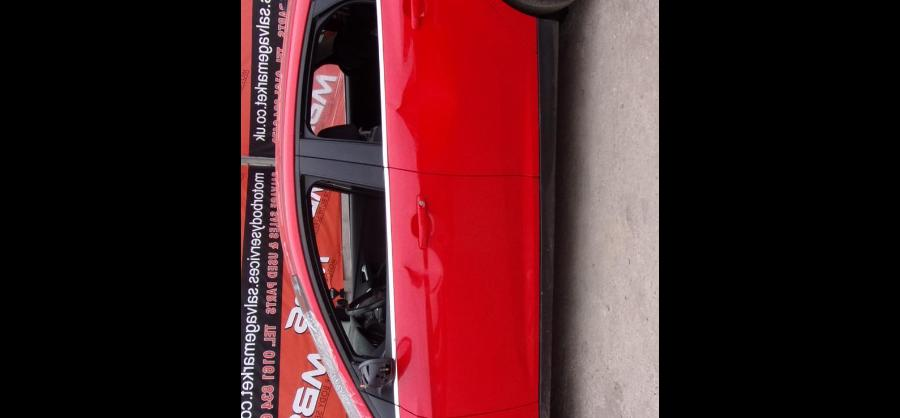Cracked: (298, 278, 365, 418)
Dent: (396, 64, 447, 152), (404, 251, 443, 290)
Missing part: (299, 174, 387, 359), (304, 0, 383, 142)
